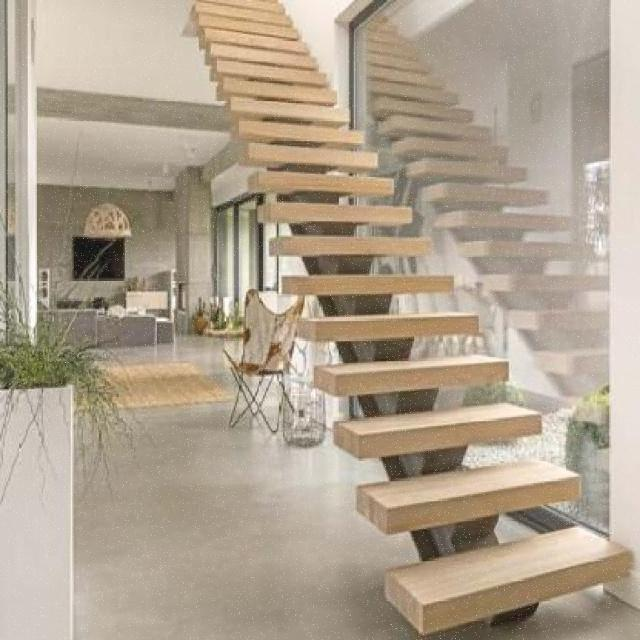stair: (174, 0, 634, 628)
